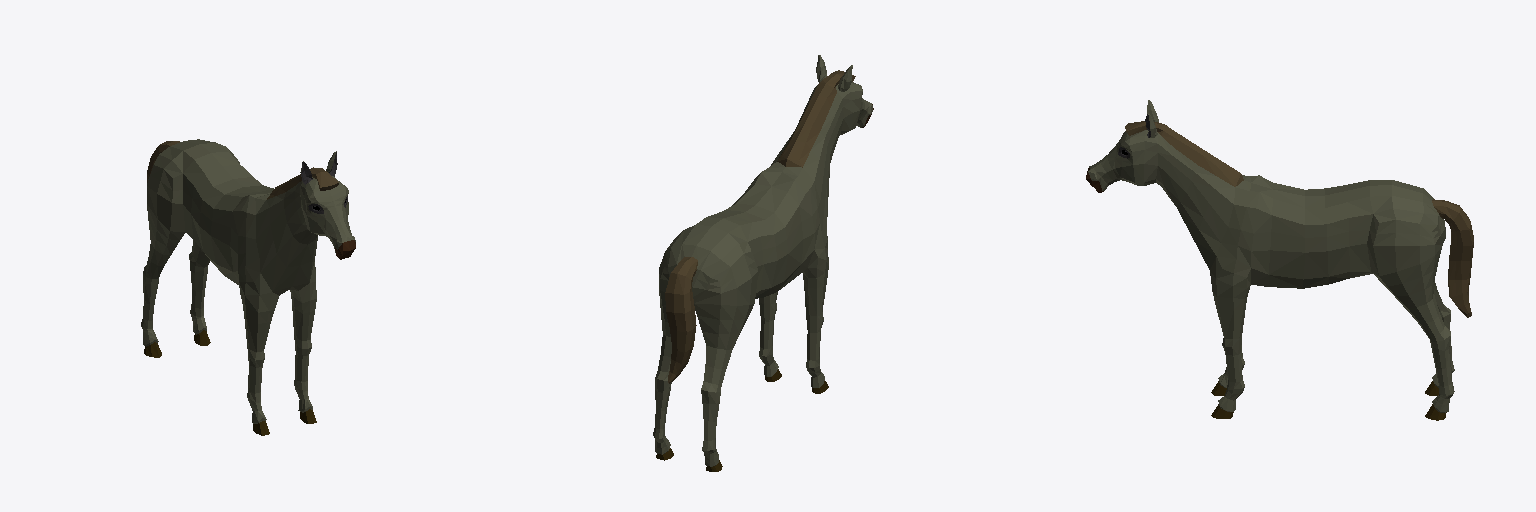
The model's file is Horse_White.obj.
3 renders of one model, left to right at view 1: azimuth 30°, elevation 25°; view 2: azimuth 150°, elevation 25°; view 3: azimuth 270°, elevation 25°, orthographic.
Visible parts, largest first — view 1: Horse_Cube; view 2: Horse_Cube; view 3: Horse_Cube.
Boxes of the visible parts, <box> form: Horse_Cube: <box>141,139,355,435</box>; Horse_Cube: <box>653,55,873,471</box>; Horse_Cube: <box>1086,100,1473,420</box>.
Size of the model in its own units: 1.41 by 4.86 by 5.73.